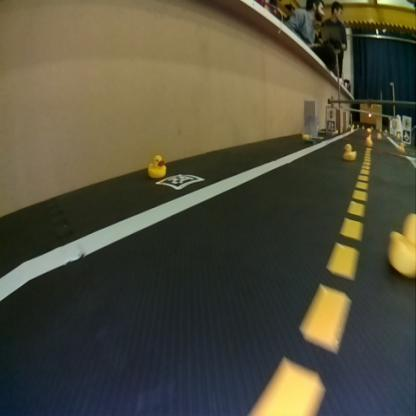Duckie: (388, 213, 414, 275), (146, 154, 164, 176), (341, 144, 356, 158), (366, 138, 372, 146)
QR code: (156, 173, 204, 189)
